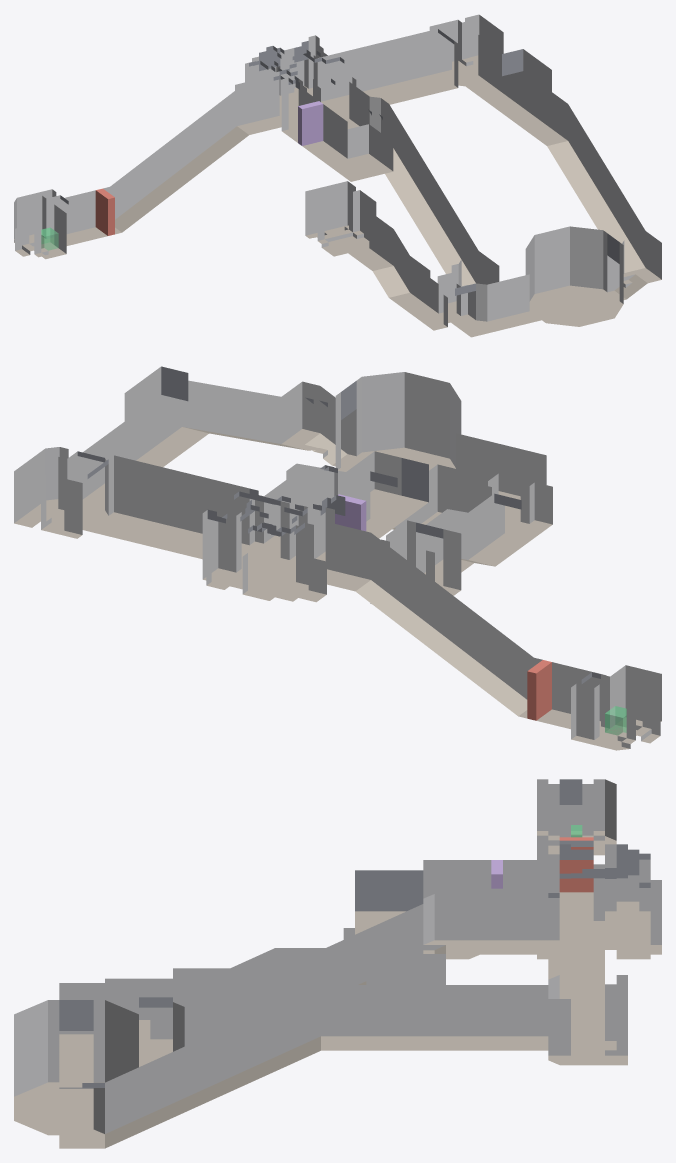
File: outpost_07.glb
The picture shows the model from 3 angles, top to bottom: view 1: azimuth 30°, elevation 25°; view 2: azimuth 150°, elevation 25°; view 3: azimuth 270°, elevation 25°; orthographic projection. The views are drawn at different scales.
Visible parts, largest first — view 1: corridor:5, corridor:1, corridor:2, corridor:0, corridor:3, room:4, room:1, room:5, entities, room:0, room:1/portals, room:2 (+9 smaller); view 2: corridor:5, corridor:1, corridor:0, corridor:2, room:1, corridor:3, room:0, room:1/portals, room:5, room:2, entities, room:4 (+9 smaller); view 3: corridor:5, corridor:2, room:1, corridor:3, room:5, corridor:0, corridor:4, room:0, room:3, room:1/portals, room:2/bases, room:0/portals (+8 smaller).
Part boxes in pixels (x1,y1,x2,y2): corridor:5: [455, 44, 661, 337]; corridor:1: [60, 82, 277, 245]; corridor:2: [345, 82, 499, 305]; corridor:0: [332, 29, 458, 111]; corridor:3: [348, 211, 430, 312]; room:4: [305, 181, 376, 256]; room:1: [245, 35, 356, 133]; room:5: [327, 124, 393, 181]; entities: [41, 101, 323, 250]; room:0: [429, 14, 503, 86]; room:1/portals: [265, 54, 331, 130]; room:2: [14, 189, 68, 259]; corridor:5: [77, 366, 546, 516]; corridor:1: [327, 524, 605, 729]; corridor:0: [87, 455, 249, 559]; corridor:2: [264, 463, 482, 547]; room:1: [202, 495, 345, 601]; corridor:3: [416, 493, 521, 585]; room:0: [14, 447, 108, 538]; room:1/portals: [218, 501, 334, 584]; room:5: [343, 451, 428, 525]; room:2: [571, 665, 652, 750]; entities: [335, 494, 626, 735]; room:4: [370, 520, 461, 603]; corridor:5: [14, 954, 548, 1148]; corridor:2: [139, 888, 536, 1066]; room:1: [537, 839, 650, 959]; corridor:3: [173, 948, 324, 1006]; room:5: [355, 870, 423, 934]; corridor:0: [548, 959, 604, 1031]; corridor:4: [423, 860, 536, 898]; room:0: [548, 975, 627, 1065]; room:3: [105, 978, 172, 1048]; room:1/portals: [537, 854, 604, 940]; room:2/bases: [537, 779, 604, 840]; room:0/portals: [548, 984, 616, 1055].
Bounding box in the file's own units: 68 × 19 × 57.
